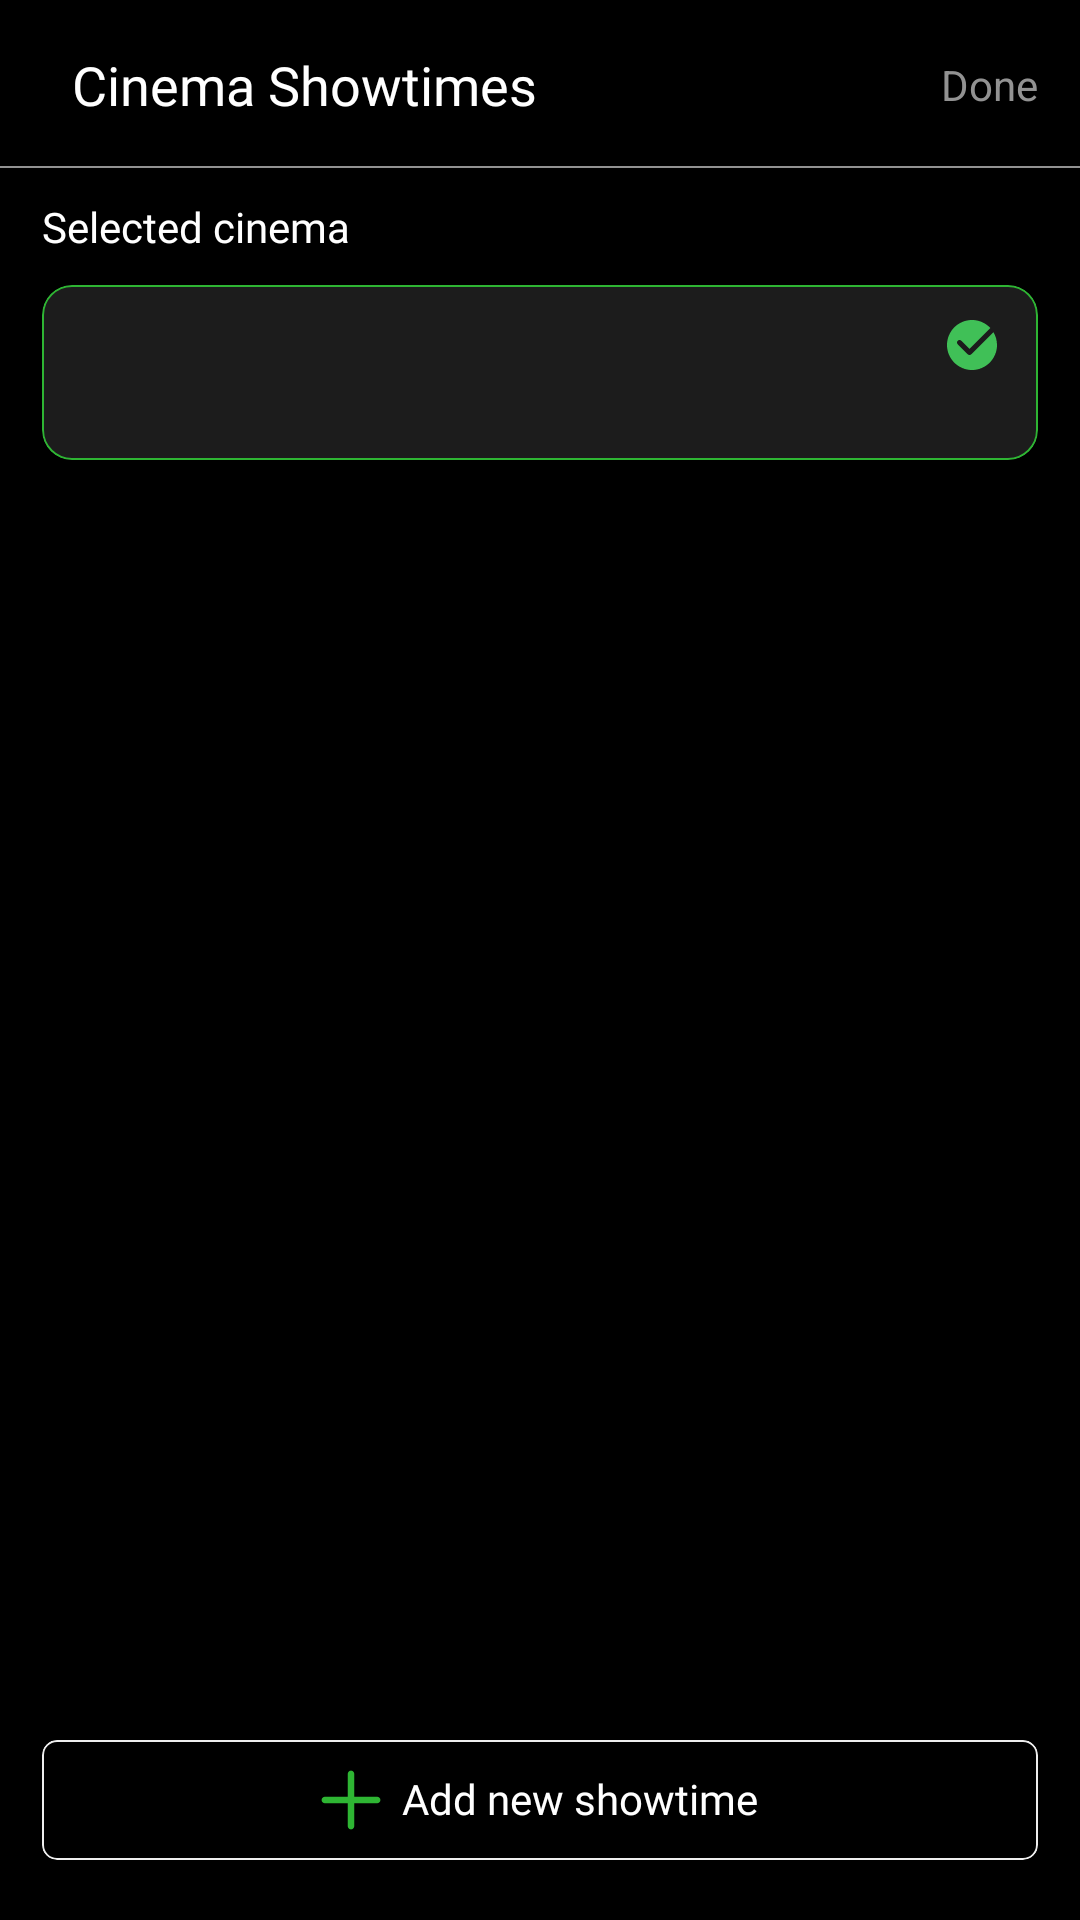

Icons on this 1080px×1920px Android screen, each with the point to tap as [x,y]:
add plus: [351,1800]
checkmark: [972,345]
